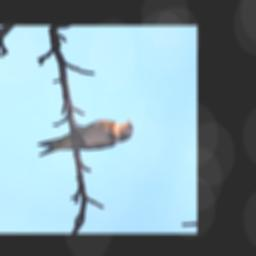Swallow: (33, 102, 138, 174)
